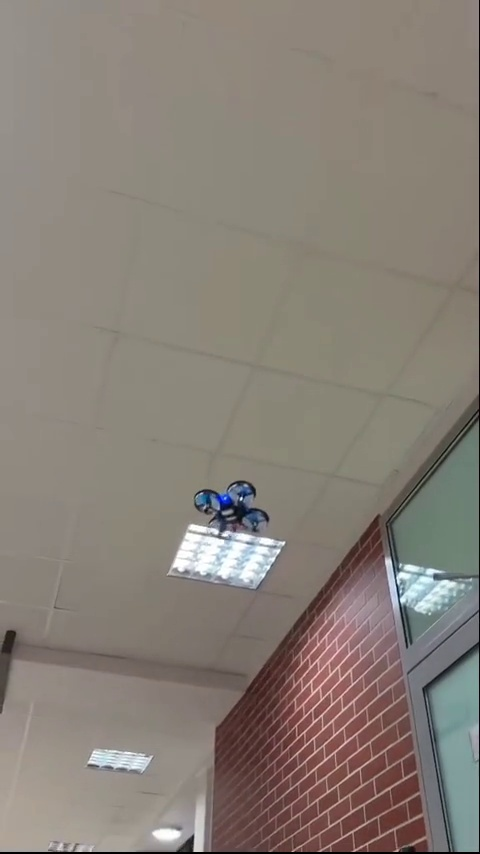drone: (188, 479, 271, 539)
